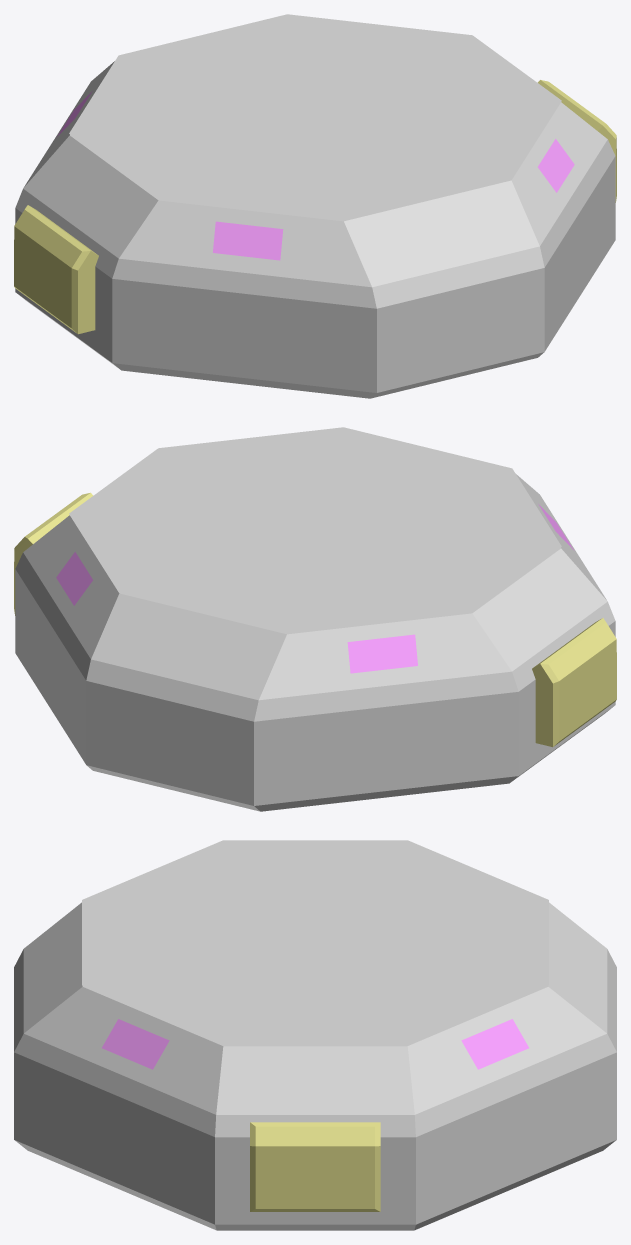
Rendered from HealthPack.fbx.
The picture shows the model from 3 angles, top to bottom: view 1: azimuth 30°, elevation 25°; view 2: azimuth 150°, elevation 25°; view 3: azimuth 270°, elevation 25°; orthographic projection. The views are drawn at different scales.
Parts seen in each view (by area): view 1: HealthPack, HealthPack_Label, HealthPack_Emissives; view 2: HealthPack, HealthPack_Label, HealthPack_Emissives; view 3: HealthPack, HealthPack_Label, HealthPack_Emissives.
Part boxes in pixels (x1,y1,x2,y2): HealthPack: (14,61,616,398); HealthPack_Label: (69,14,561,219); HealthPack_Emissives: (56,91,574,260); HealthPack: (14,474,616,811); HealthPack_Label: (69,427,561,632); HealthPack_Emissives: (56,504,574,673); HealthPack: (14,902,616,1230); HealthPack_Label: (82,840,548,1044); HealthPack_Emissives: (102,1019,528,1069).
Size of the model in its own units: 0.2709 by 0.0758 by 0.25.
